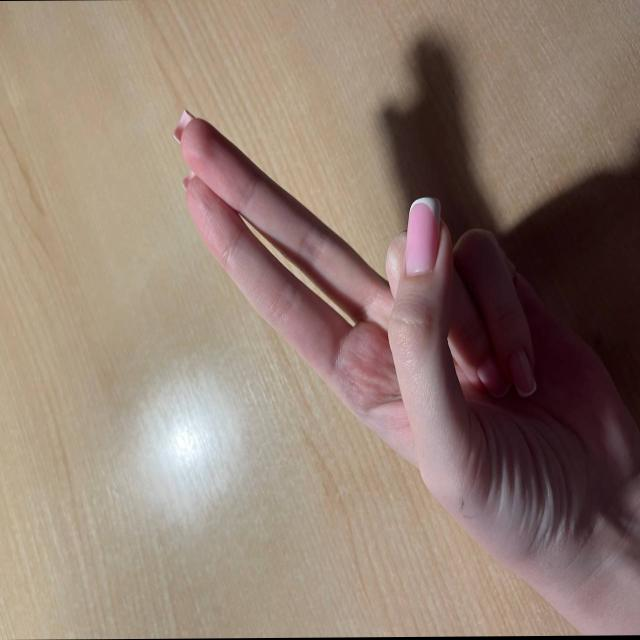ts: (160, 92, 566, 491)
